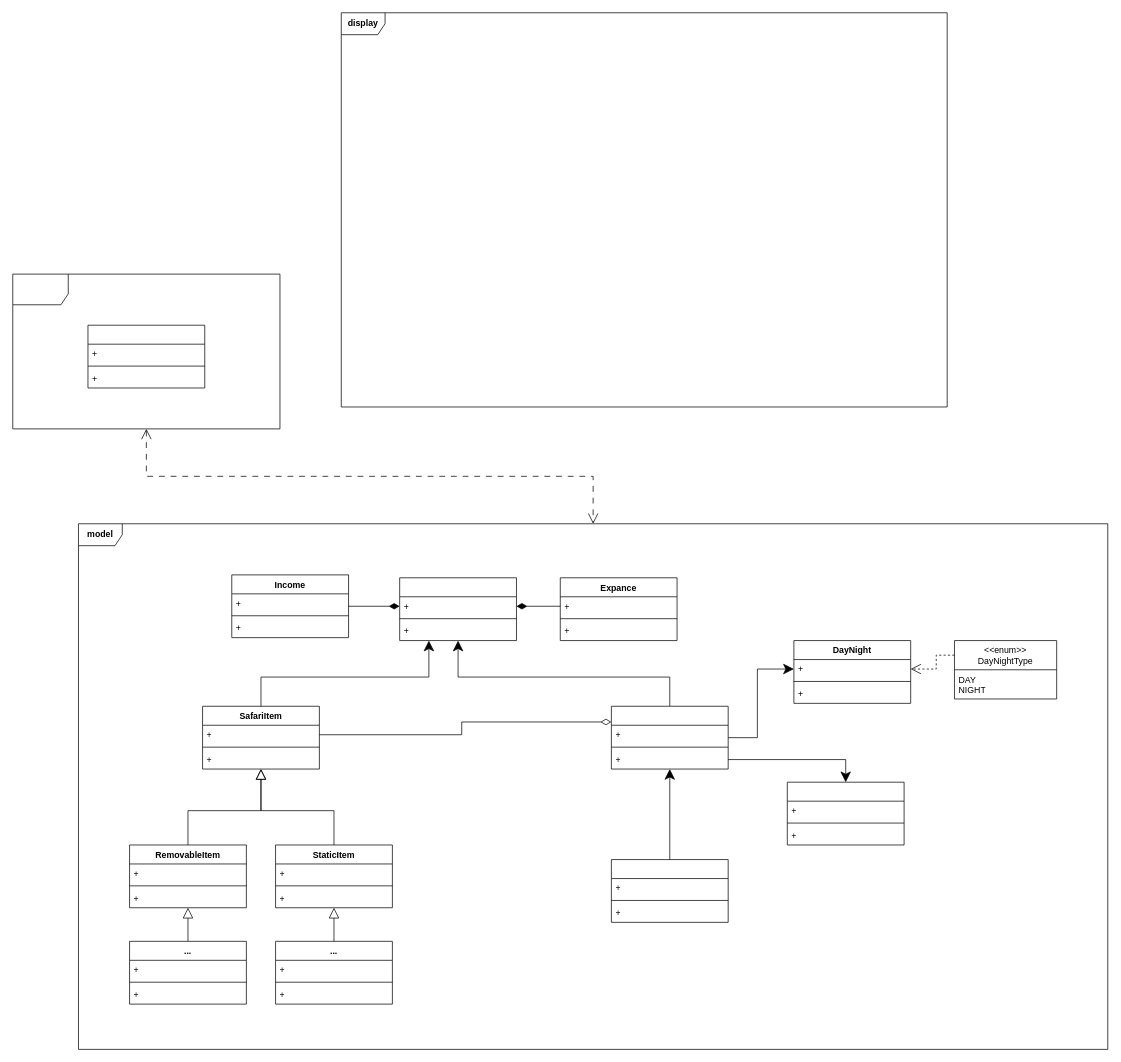
The diagram is 1121 pixels wide and 1062 high, and some of its shapes have lost their labels. The box of each missing label's shape, as (x1, y1, x2, y2) in pixels:
Budget: (399, 577, 516, 641)
Constructor: (611, 859, 728, 922)
Database: (87, 324, 205, 388)
GameData: (787, 781, 904, 845)
GameModel: (611, 706, 728, 769)
persistance: (12, 273, 280, 429)
